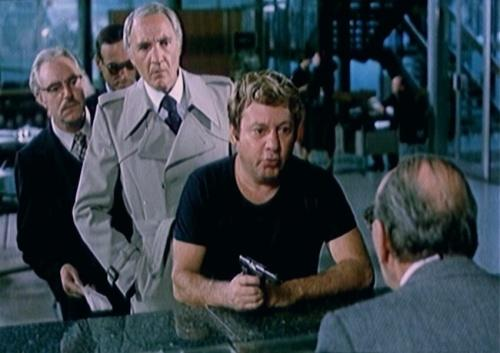Gun: (236, 254, 281, 290)
